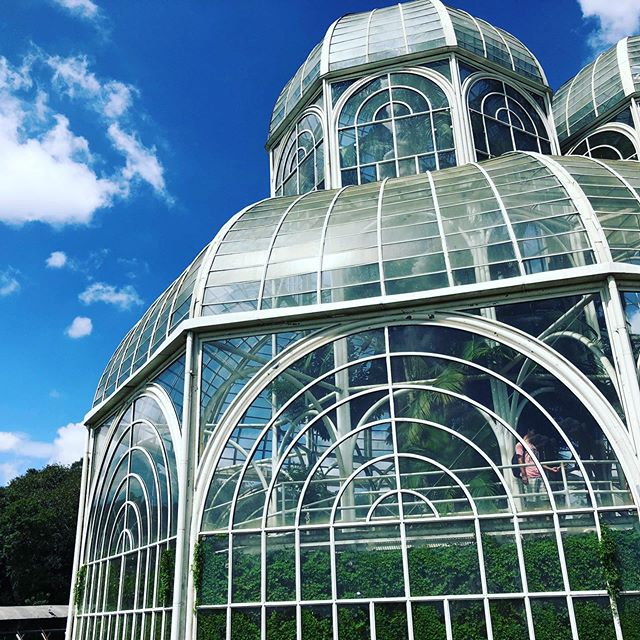building: (73, 1, 640, 624), (1, 1, 268, 348)
